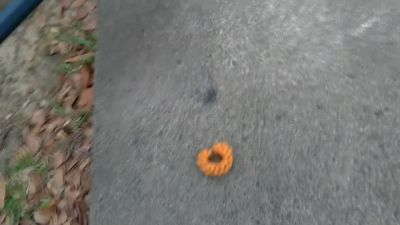eggs: (194, 141, 234, 178)
